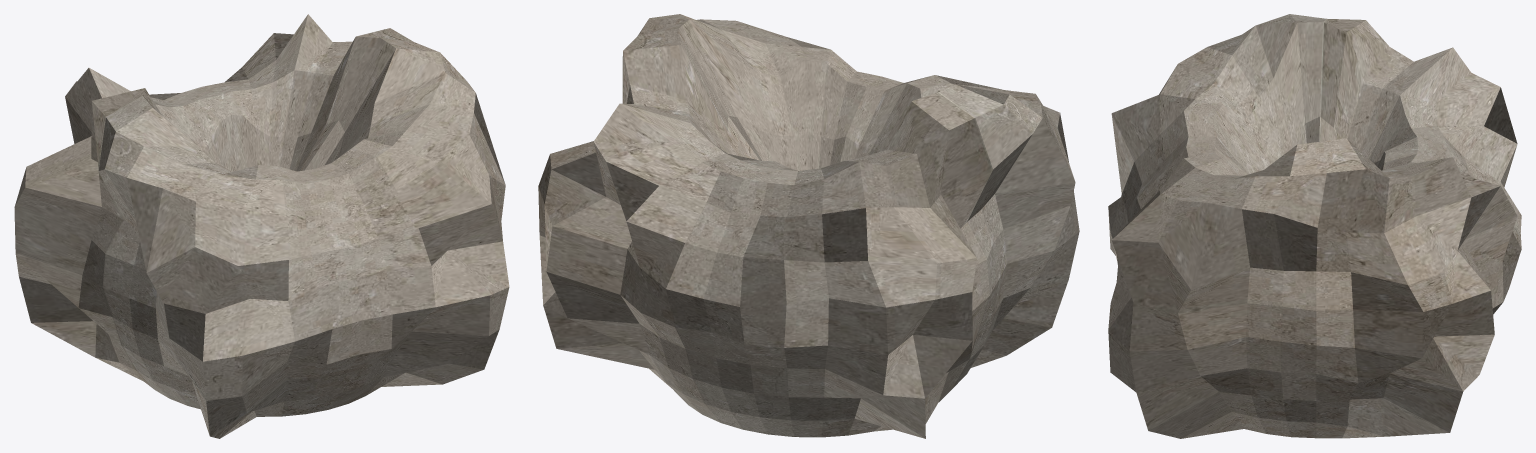
Rendered from horse.gltf.
3 renders of one model, left to right at view 1: azimuth 30°, elevation 25°; view 2: azimuth 150°, elevation 25°; view 3: azimuth 270°, elevation 25°, orthographic. The views are drawn at different scales.
Parts seen in each view (by area): view 1: Sphere; view 2: Sphere; view 3: Sphere.
Boxes of the visible parts, x1=… form: Sphere: x1=14, y1=14, x2=509, y2=438; Sphere: x1=538, y1=14, x2=1079, y2=438; Sphere: x1=1108, y1=14, x2=1521, y2=438.
Size of the model in its own units: 2.55 by 1.83 by 2.24.
Materials: 1 (1 with a texture image).
